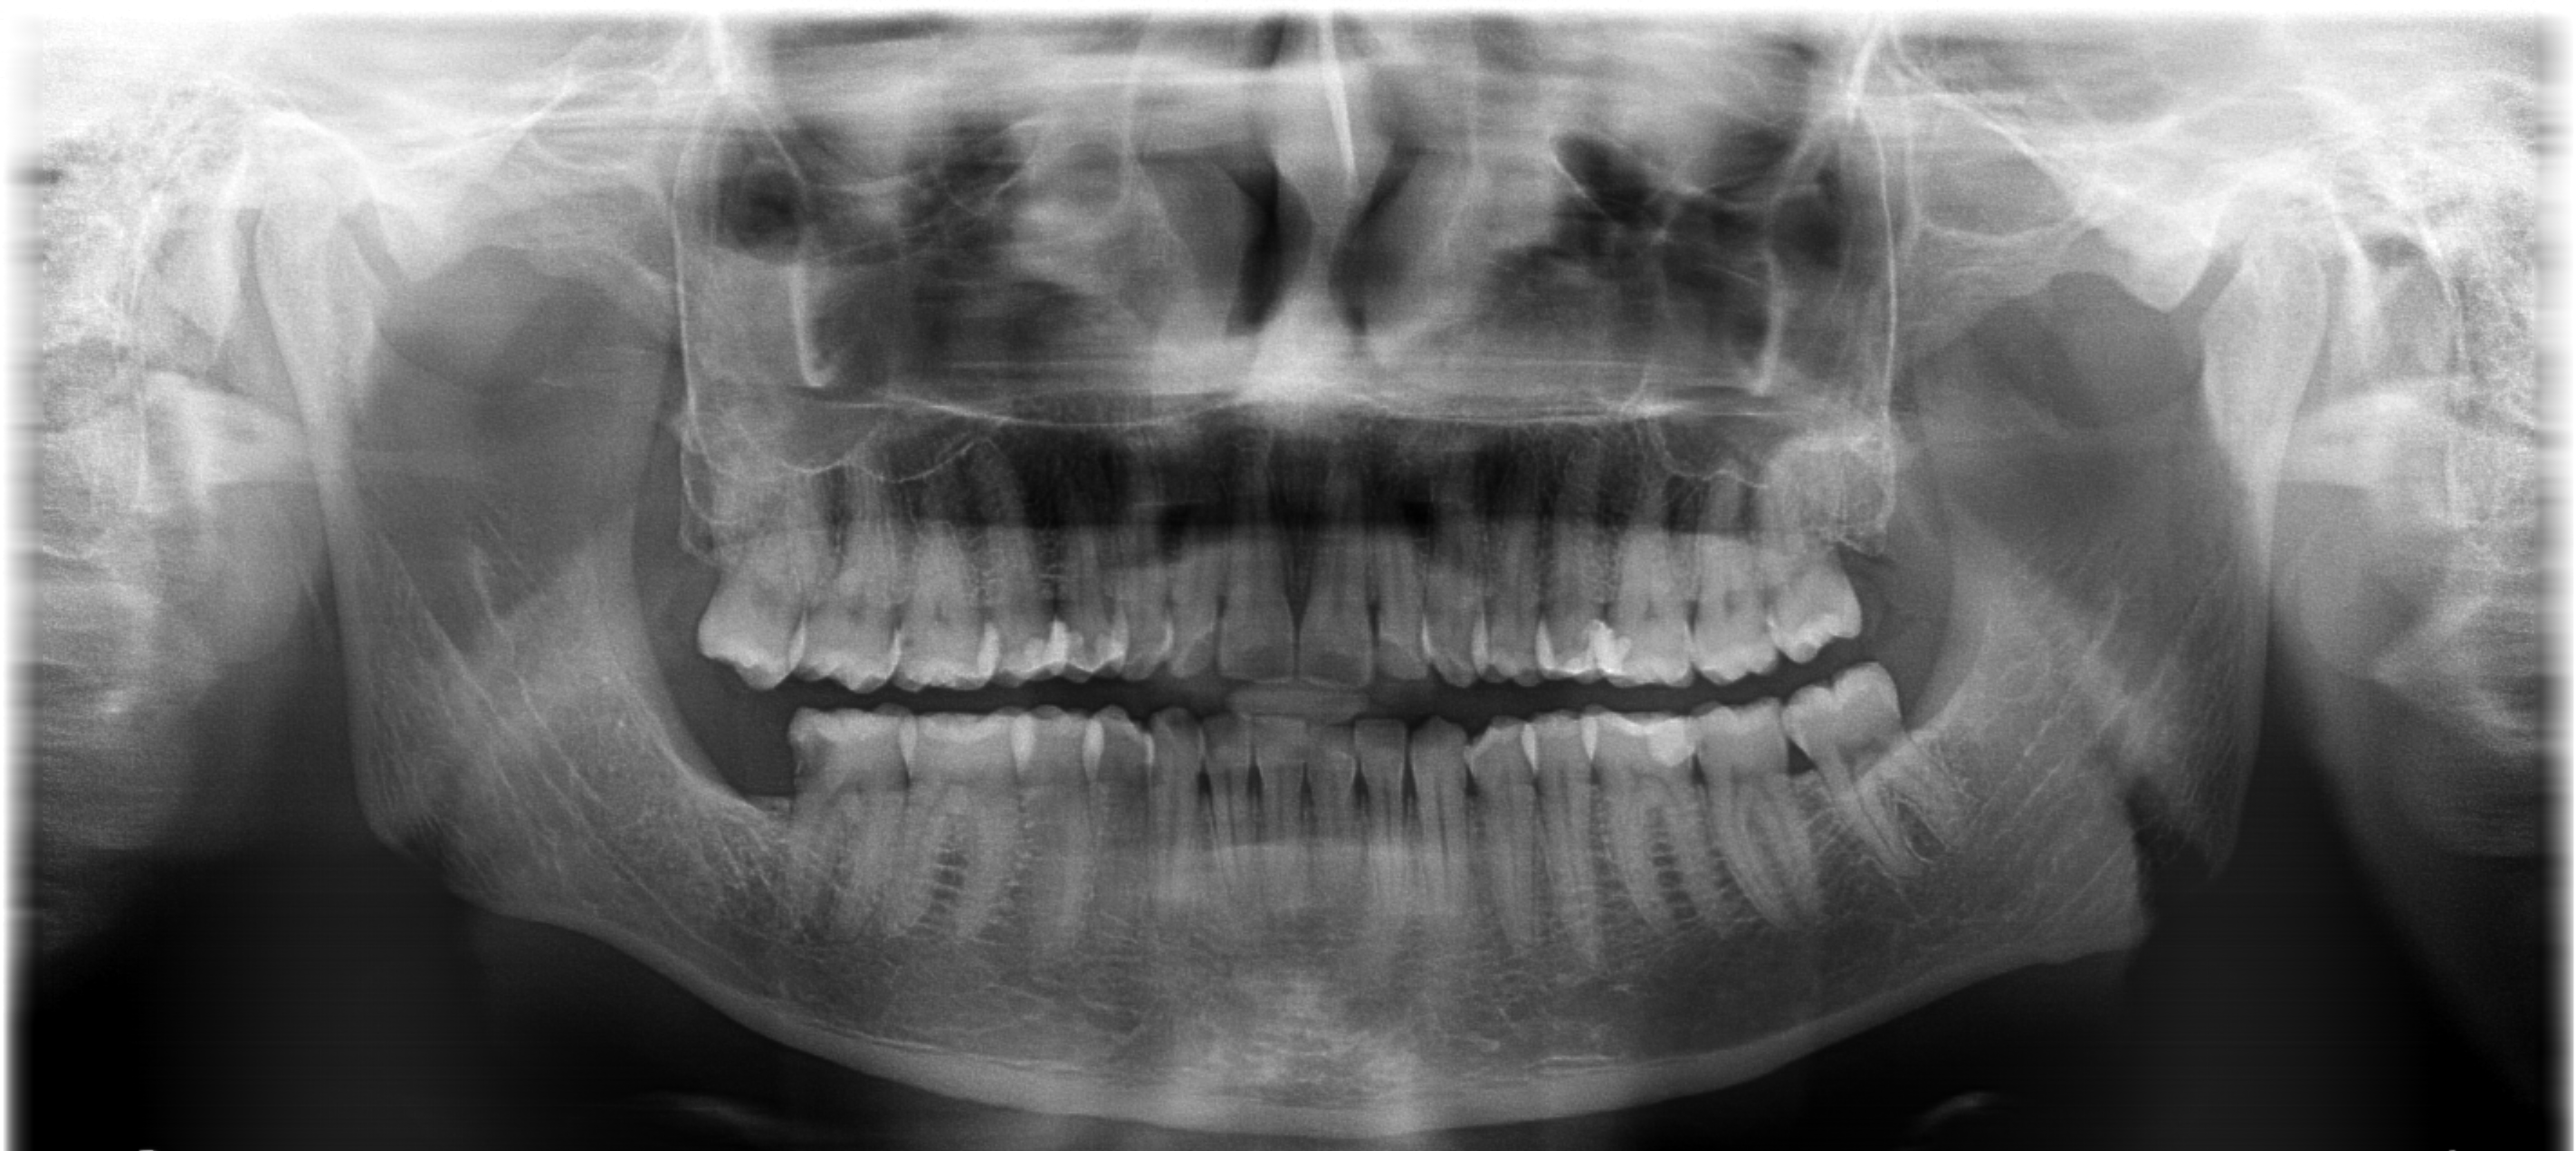apinamiento: (1078, 704, 1434, 809)
cordal: (1728, 422, 1927, 675), (1781, 644, 1978, 896), (665, 473, 821, 716)
